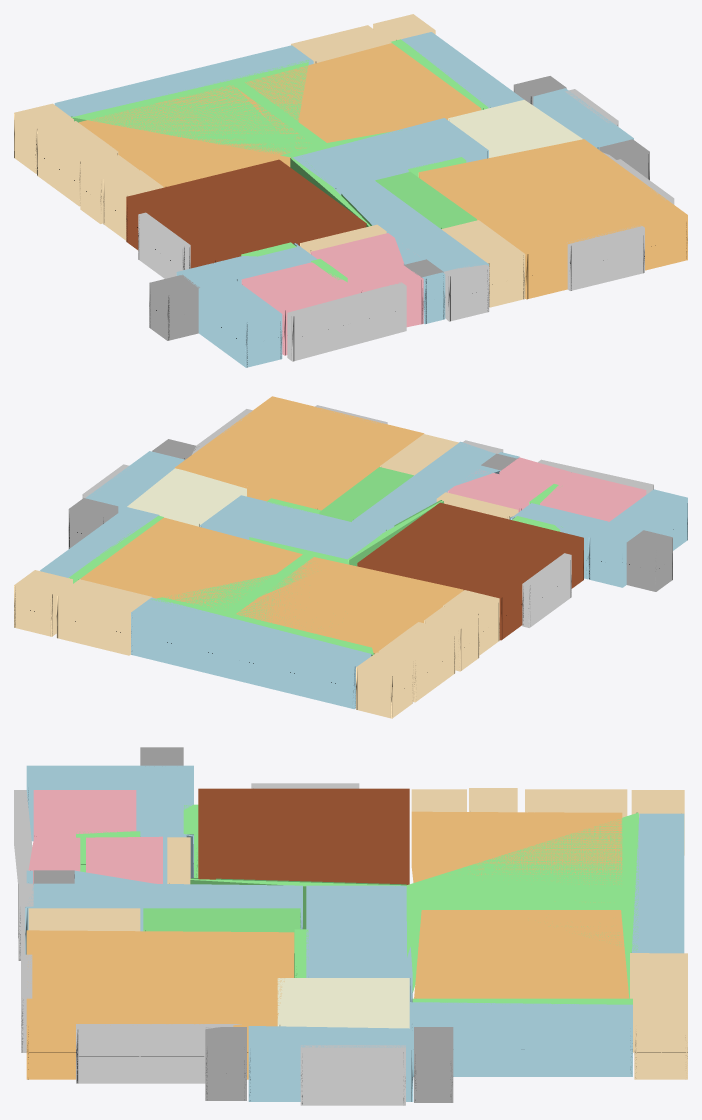
File: Capture d’écran 2025-06-05 224143_gt.obj
The picture shows the model from 3 angles, top to bottom: view 1: azimuth 30°, elevation 25°; view 2: azimuth 150°, elevation 25°; view 3: azimuth 270°, elevation 25°; orthographic projection. The views are drawn at different scales.
Bounding box in the file's own units: 30.03 × 2.5 × 28.11.
